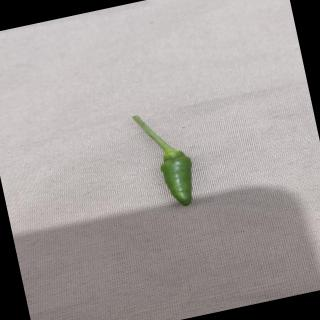Cabai Hijau: (122, 101, 205, 217)
